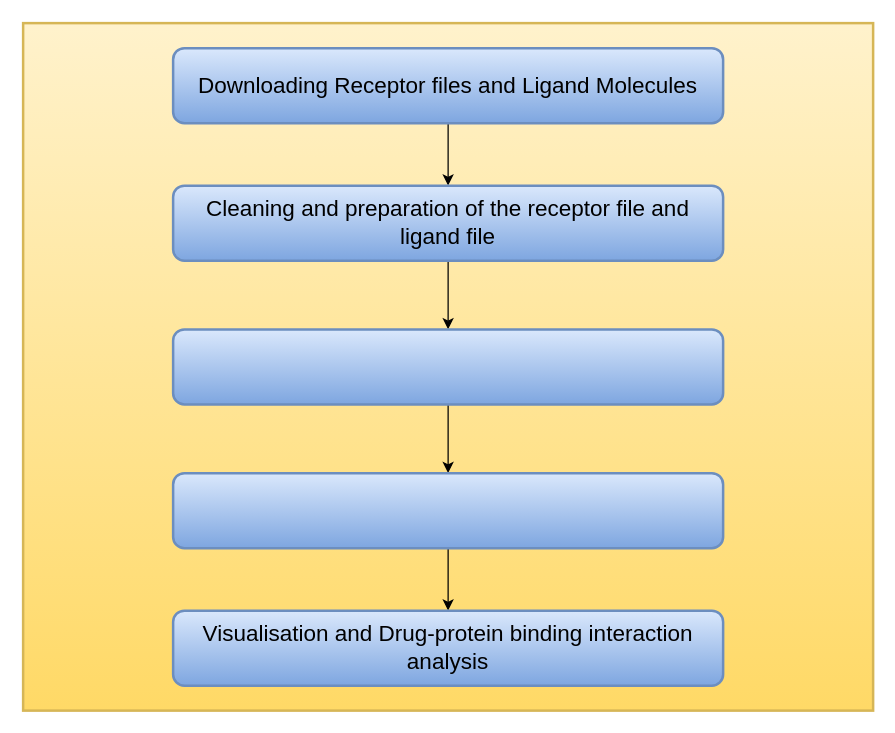
The diagram is 895 pixels wide and 733 high, and some of its shapes have lost their labels. Here are the shapes that lost their labels. From the top down, the centre of each, then its label:
At point 447,366: "Setting up Grid Box and the configuration parameters".
At point 447,510: "Autodock Vina execution through terminal\command line".
